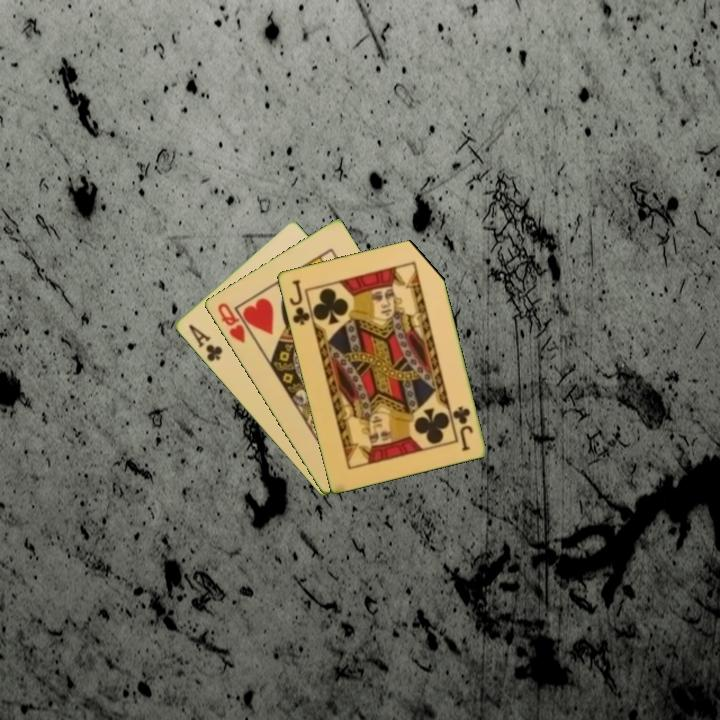Ac: (185, 321, 225, 364)
Jc: (285, 276, 312, 328), (449, 402, 476, 454)
Qh: (213, 299, 248, 346)
